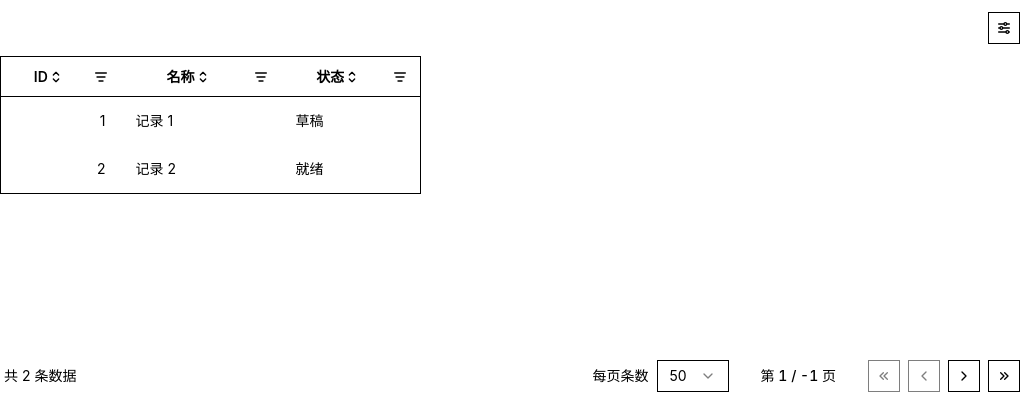
it: DataTable cell selection › starts a text draft from a ASCII printable key without committing
Click the cell "记录 1" at [154, 120], box [120, 97, 280, 145]
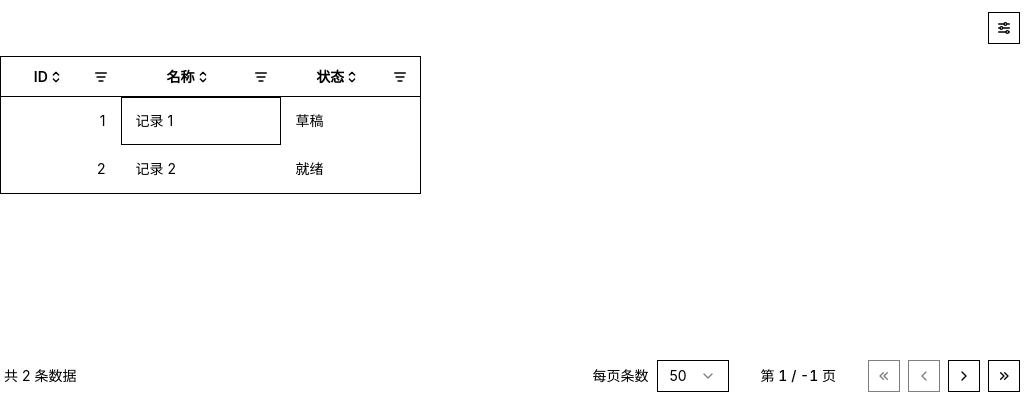
Press a in the cell "记录 1", box [120, 97, 280, 145]
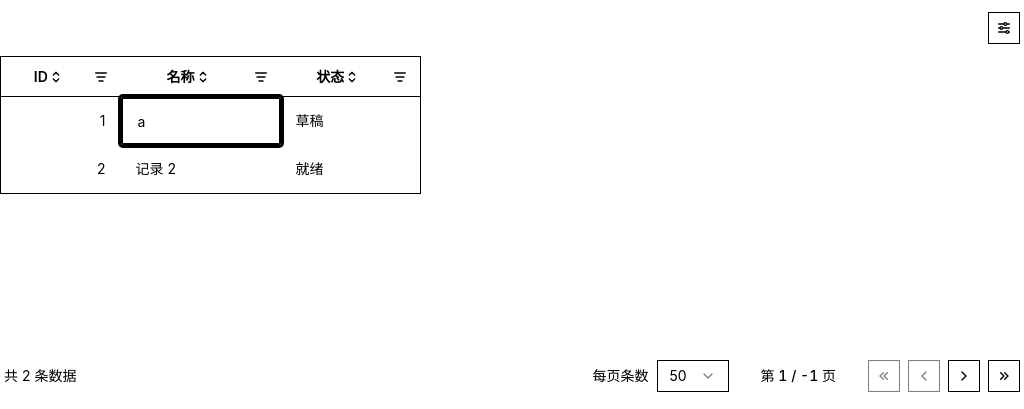
Expected: the field named "编辑名称" holds "a", [120, 97, 280, 145]
